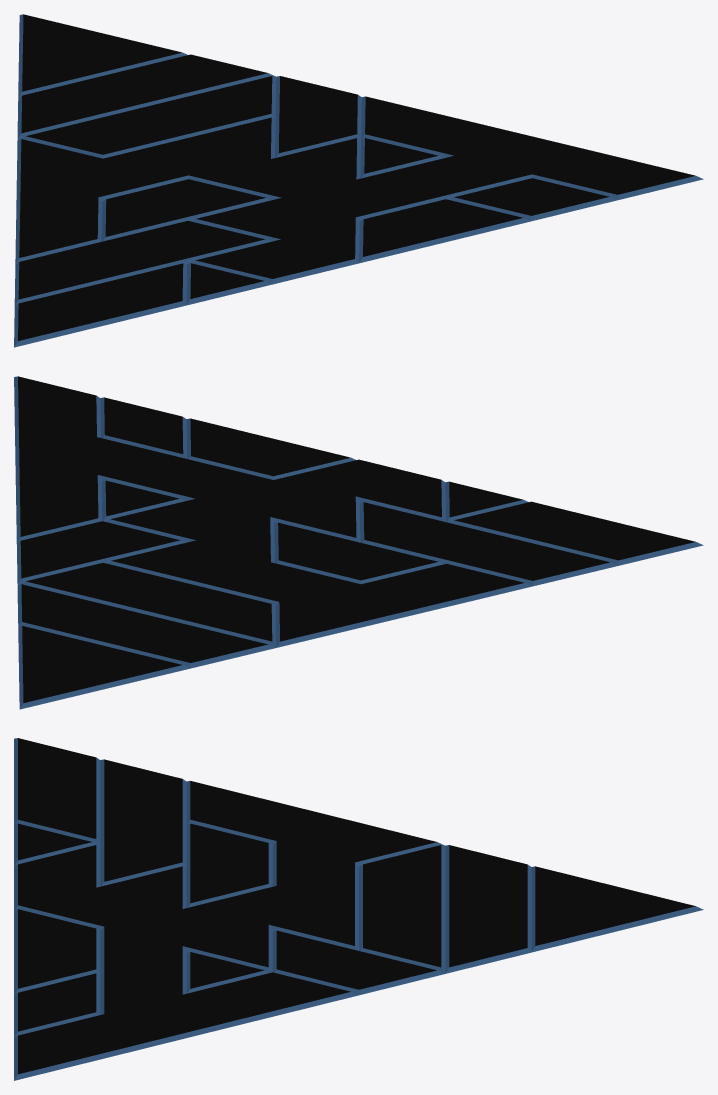
File: Cyberpunk Triangle Tile.001.glb
3 views of the same model, one above another, from view 1: azimuth 30°, elevation 25°; view 2: azimuth 150°, elevation 25°; view 3: azimuth 270°, elevation 25° (orthographic).
Visible parts, largest first — view 1: Cyberpunk Triangle Tile.001; view 2: Cyberpunk Triangle Tile.001; view 3: Cyberpunk Triangle Tile.001.
Boxes of the visible parts, bbox=[...] form: Cyberpunk Triangle Tile.001: bbox=[14, 14, 703, 347]; Cyberpunk Triangle Tile.001: bbox=[14, 376, 703, 709]; Cyberpunk Triangle Tile.001: bbox=[14, 738, 703, 1080].
Size of the model in its own units: 1.02 by 0.005 by 0.8664.
Materials: 1 (1 with a texture image).
